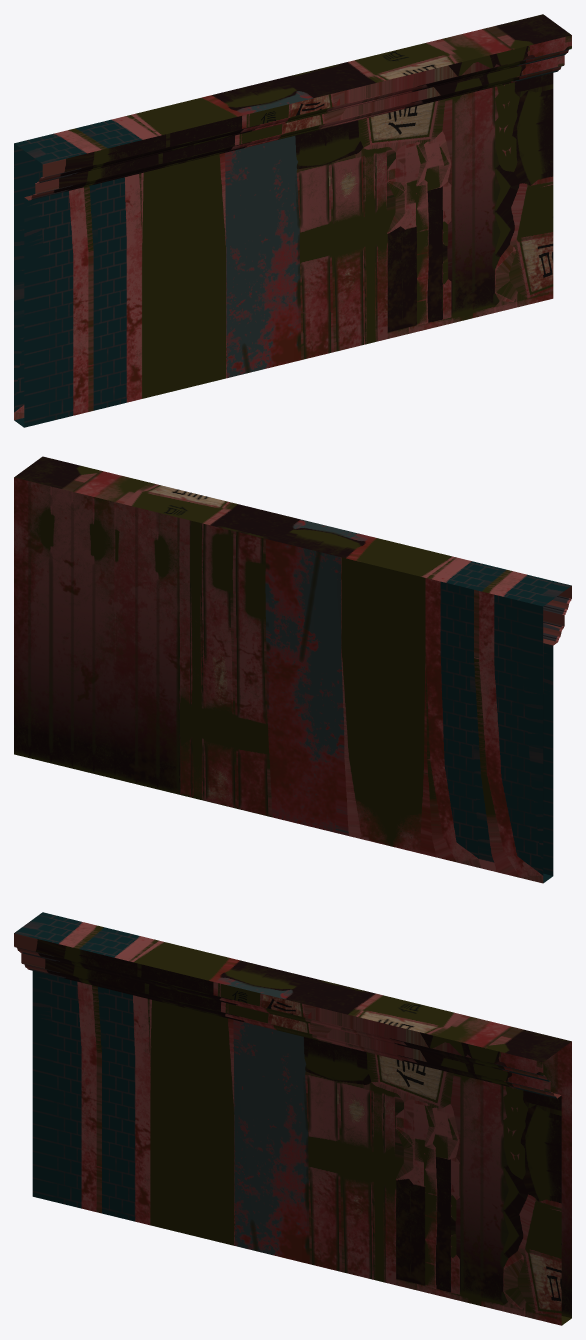
File: MEIA PAREDE 3M.fbx
3 renders of one model, top to bottom at view 1: azimuth 30°, elevation 25°; view 2: azimuth 150°, elevation 25°; view 3: azimuth 330°, elevation 25°, orthographic.
Parts seen in each view (by area): view 1: Cube.034; view 2: Cube.034; view 3: Cube.034.
Boxes of the visible parts, x1=… form: Cube.034: x1=14, y1=14, x2=571, y2=427; Cube.034: x1=14, y1=456, x2=571, y2=883; Cube.034: x1=14, y1=912, x2=571, y2=1325.
Size of the model in its own units: 300 by 150 by 28.18.
